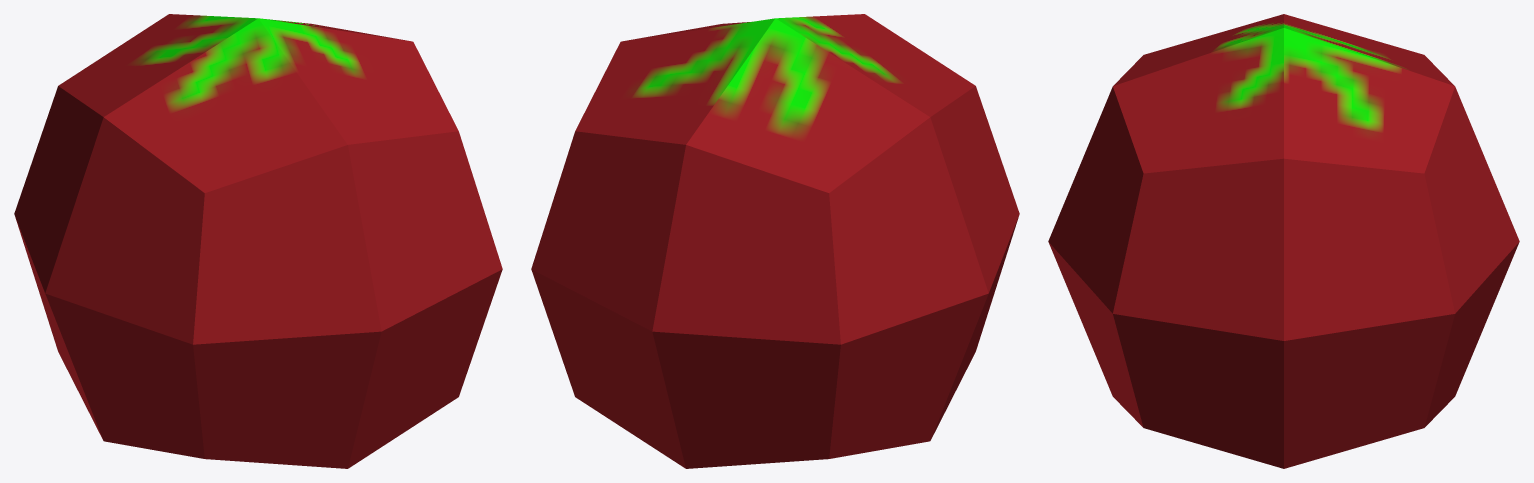
The model's file is tomato.fbx.
The picture shows the model from 3 angles, left to right: view 1: azimuth 30°, elevation 25°; view 2: azimuth 150°, elevation 25°; view 3: azimuth 270°, elevation 25°; orthographic projection. The views are drawn at different scales.
Parts seen in each view (by area): view 1: tomato; view 2: tomato; view 3: tomato.
Part boxes in pixels (x1=…): tomato: x1=14, y1=14, x2=502, y2=468; tomato: x1=531, y1=14, x2=1019, y2=468; tomato: x1=1048, y1=14, x2=1519, y2=468.
Size of the model in its own units: 1.51 by 1.4 by 1.51.
